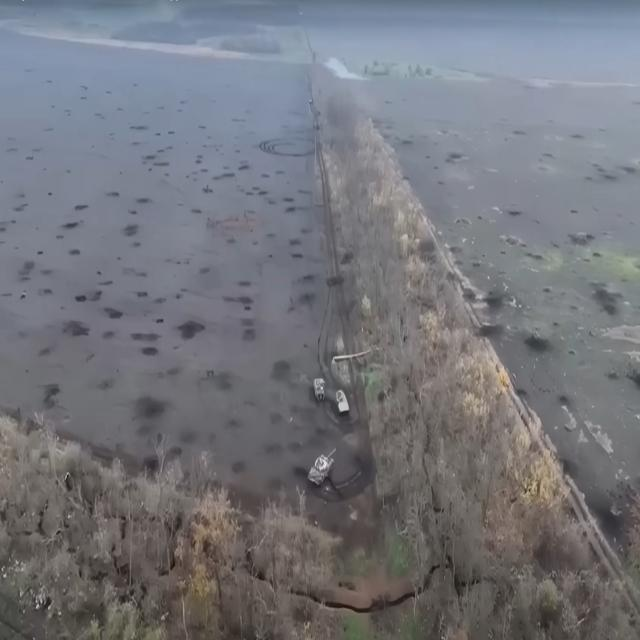AIFV: (336, 388, 352, 419)
APC: (314, 375, 327, 405)
MBT: (308, 448, 340, 488)
